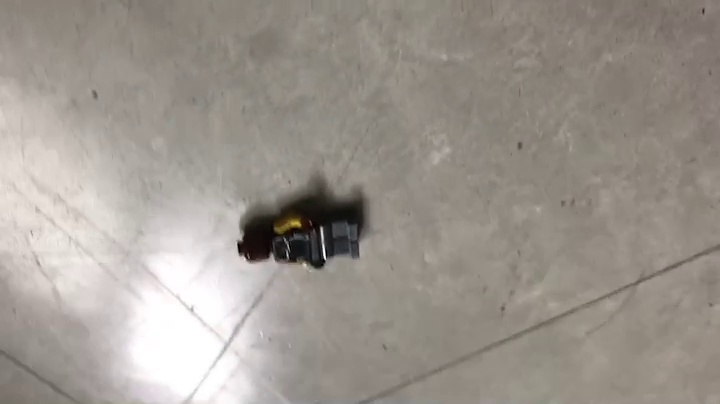people: (235, 188, 364, 272)
